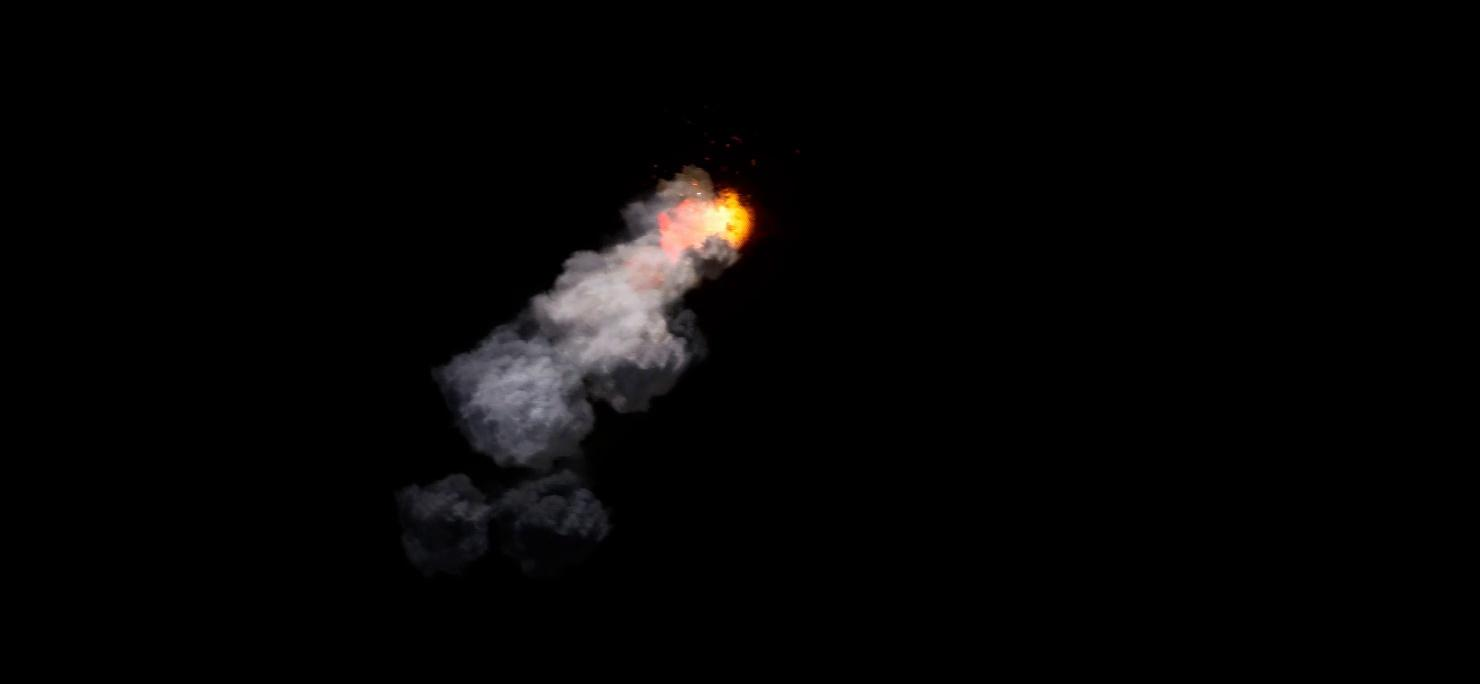fire: (657, 186, 759, 258)
smoke: (441, 165, 731, 463)
